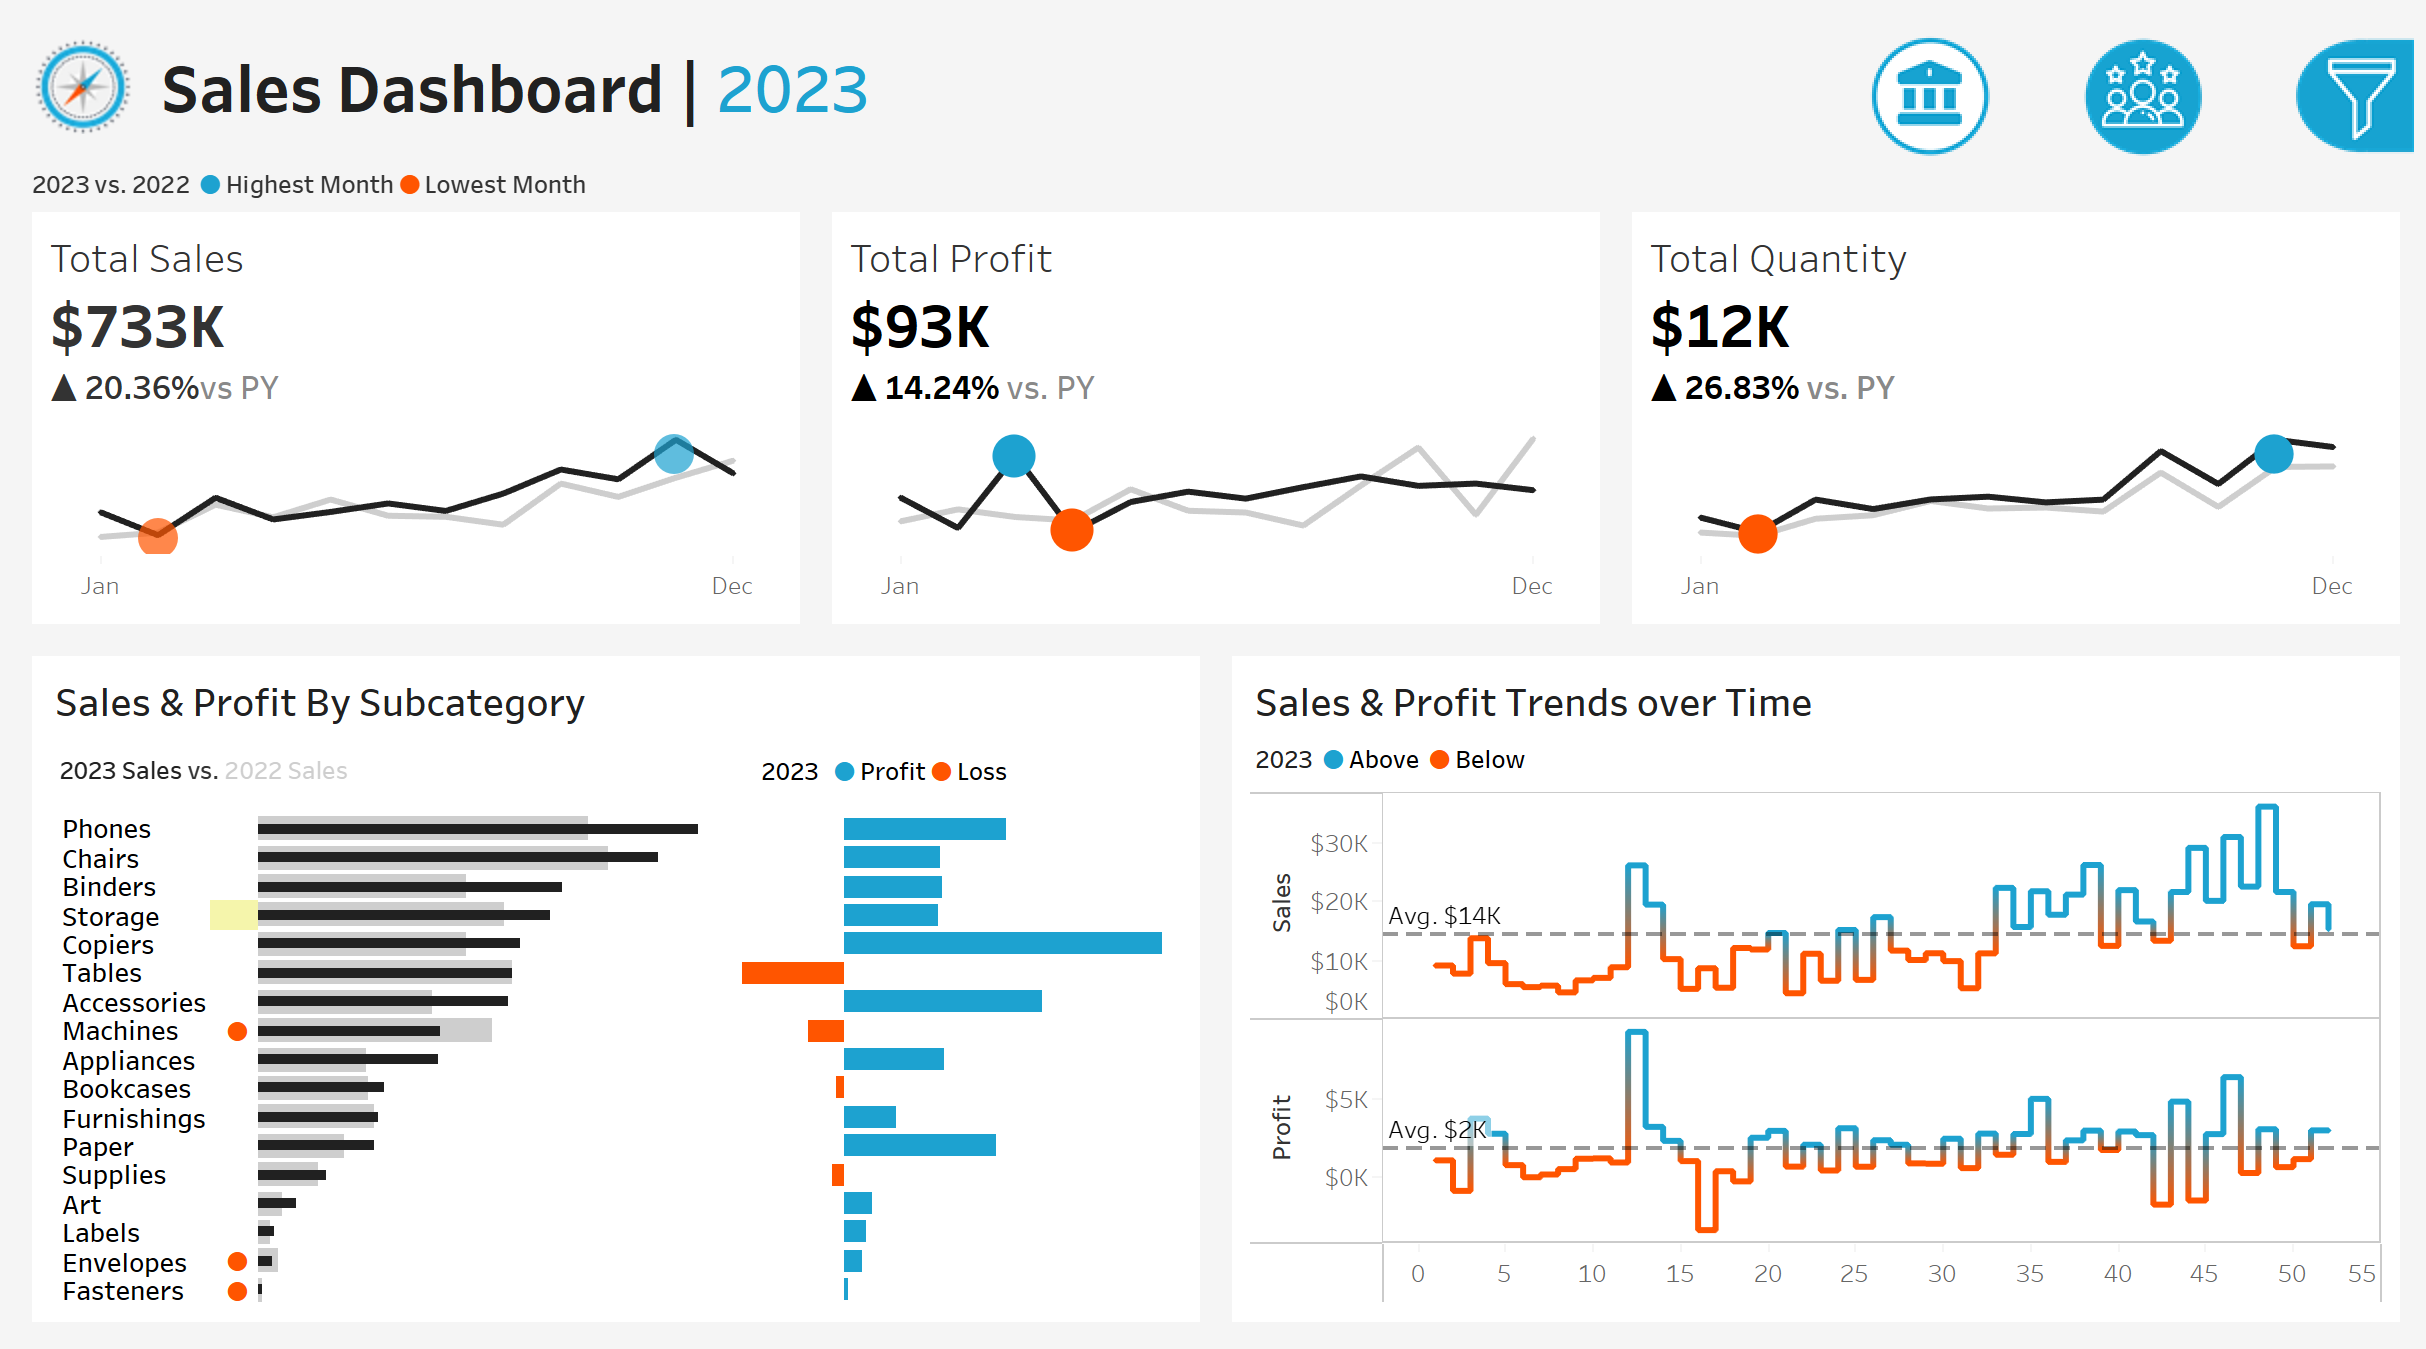

What the dashboard file says about the page in this screenshot:
{"tool":"tableau","page":{"name":"Sales Dashboard","canvas":[1200,660],"ordinal":1},"visuals":[{"type":"image","param":"Image/Icon - Logo.png","box":[0,0,66,68]},{"type":"text","box":[66,0,815,68]},{"type":"dashboard-object","box":[904,5,106,68]},{"type":"dashboard-object","box":[1010,5,106,68]},{"type":"blank","box":[1015,8,176,88]},{"type":"worksheet","title":"Legends Of KPIs","mark":"Automatic","box":[0,68,1200,29]},{"type":"text","box":[1015,96,176,34]},{"type":"worksheet","title":"KPI Sales","mark":"Automatic","rows":["Calculation_1206401770886094852"],"cols":["Order Date"],"box":[0,97,400,214]},{"type":"worksheet","title":"KPI Profits","mark":"Automatic","rows":["Calculation_1206401771396108300"],"cols":["Order Date"],"box":[400,97,400,214]},{"type":"worksheet","title":"KPI Quantity","mark":"Automatic","rows":["Calculation_1206401771407794194"],"cols":["Order Date"],"box":[800,97,400,214]},{"type":"parameter","param":"[Parameters].[Parameter 1]","box":[1015,130,176,52]},{"type":"blank","box":[1015,182,176,32]},{"type":"text","box":[1015,214,176,29]},{"type":"filter","title":"KPI Sales","param":"[federated.0yjctd71l1bf0s16z1lix1t8igs8].[none:Category:nk]","box":[1015,243,176,52]},{"type":"filter","title":"KPI Sales","param":"[federated.0yjctd71l1bf0s16z1lix1t8igs8].[none:Sub-Category:nk]","box":[1015,295,176,52]},{"type":"text","box":[13,324,574,34]},{"type":"text","box":[613,324,574,34]},{"type":"blank","box":[1015,347,176,32]},{"type":"worksheet","title":"Legends Of Subcategory","mark":"Automatic","box":[13,358,353,36]},{"type":"text","box":[366,358,221,36]},{"type":"text","box":[613,358,574,25]},{"type":"text","box":[1015,379,176,29]},{"type":"worksheet","title":"Weekly Trends","mark":"Automatic","rows":["Calculation_1206401770879270912","Calculation_1206401771354419210"],"cols":["Order Date"],"box":[613,383,574,264]},{"type":"worksheet","title":"Subcategory Comparison","mark":"Bar","rows":["Sub-Category","Calculation_1206401771418345493"],"cols":["CY Sales (copy)_1206401770879741953","Calculation_1206401770879270912","Calculation_1206401771354419210"],"box":[13,394,574,252.9]},{"type":"filter","title":"KPI Sales","param":"[federated.0yjctd71l1bf0s16z1lix1t8igs8].[none:Region:nk]","box":[1015,408,176,52]},{"type":"filter","title":"KPI Sales","param":"[federated.0yjctd71l1bf0s16z1lix1t8igs8].[none:State:nk]","box":[1015,460,176,52]},{"type":"filter","title":"KPI Sales","param":"[federated.0yjctd71l1bf0s16z1lix1t8igs8].[none:City:nk]","box":[1015,512,176,52]}]}

Visuals, with their boxes in screenshot pixels (x1, y1, x2, y2), scaled from the page's 1200x660 canvas onto the 2426x1349 screenshot:
image: [0,0,133,139]
text: [133,0,1781,139]
dashboard-object: [1828,10,2042,149]
dashboard-object: [2042,10,2256,149]
blank: [2052,16,2408,196]
"Legends Of KPIs" worksheet: [0,139,2425,198]
text: [2052,196,2408,266]
"KPI Sales" worksheet: [0,198,809,636]
"KPI Profits" worksheet: [809,198,1617,636]
"KPI Quantity" worksheet: [1617,198,2425,636]
parameter: [2052,266,2408,372]
blank: [2052,372,2408,437]
text: [2052,437,2408,497]
"KPI Sales" filter: [2052,497,2408,603]
"KPI Sales" filter: [2052,603,2408,709]
text: [26,662,1187,732]
text: [1239,662,2400,732]
blank: [2052,709,2408,775]
"Legends Of Subcategory" worksheet: [26,732,740,805]
text: [740,732,1187,805]
text: [1239,732,2400,783]
text: [2052,775,2408,834]
"Weekly Trends" worksheet: [1239,783,2400,1322]
"Subcategory Comparison" worksheet (Bar marks): [26,805,1187,1322]
"KPI Sales" filter: [2052,834,2408,940]
"KPI Sales" filter: [2052,940,2408,1046]
"KPI Sales" filter: [2052,1046,2408,1153]
